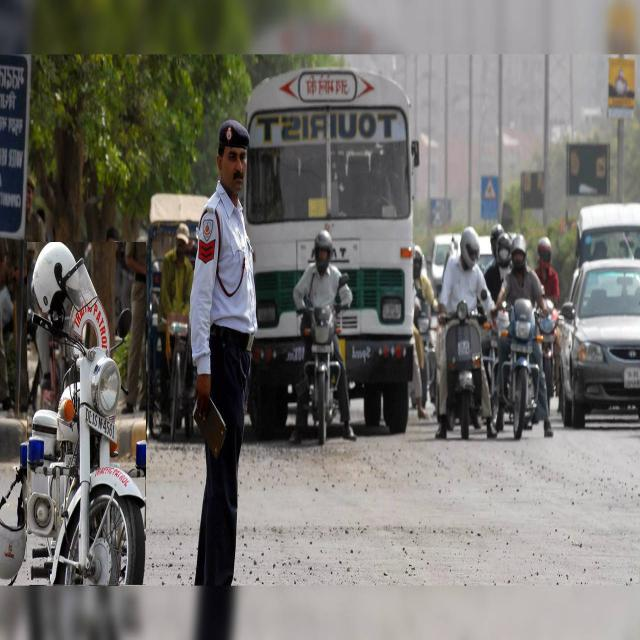bus: (245, 69, 412, 437)
car: (560, 258, 640, 427)
motorcycle: (27, 243, 145, 585), (291, 230, 355, 443), (435, 225, 496, 439), (496, 234, 552, 438)
